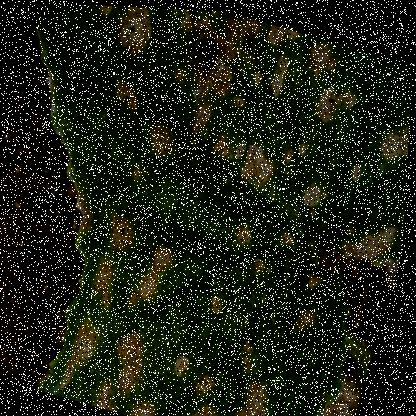Anthracnose: (67, 3, 415, 272), (53, 208, 346, 415)
